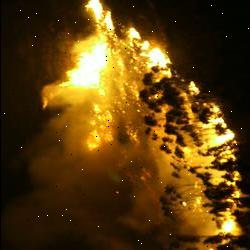fire: (38, 0, 146, 158), (166, 90, 245, 248)
